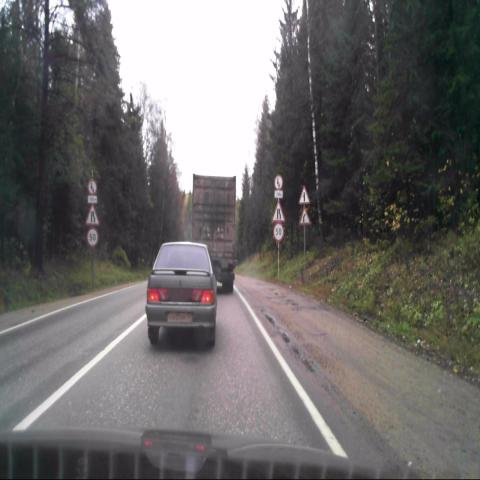1_20_2: (85, 205, 99, 225)
